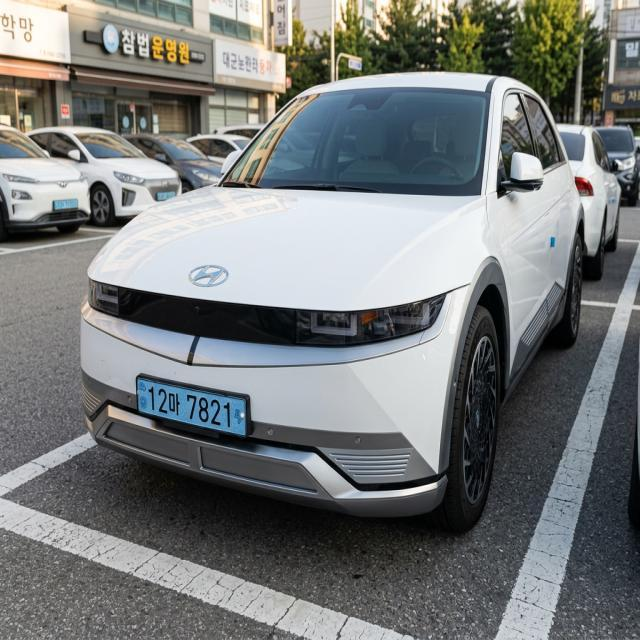car: (125, 367, 275, 445), (49, 195, 86, 217), (149, 191, 178, 205)
carev: (135, 372, 148, 421), (233, 395, 247, 439), (51, 196, 61, 218), (74, 193, 83, 215), (153, 188, 162, 204), (172, 187, 177, 204)
